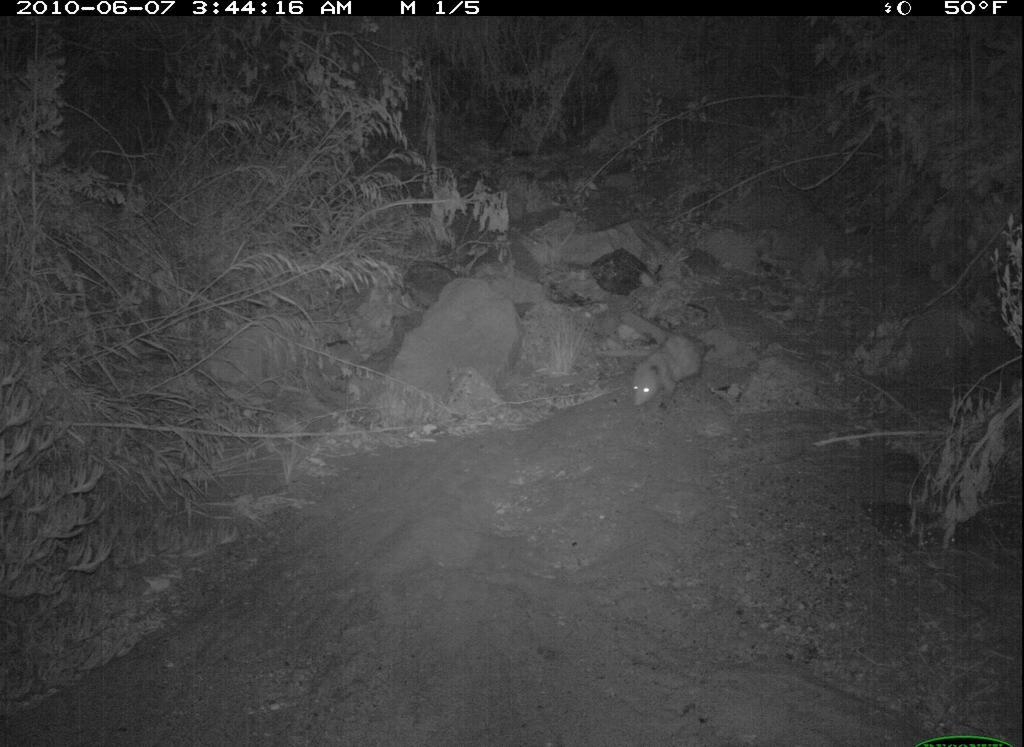opossum: (626, 322, 748, 425)
